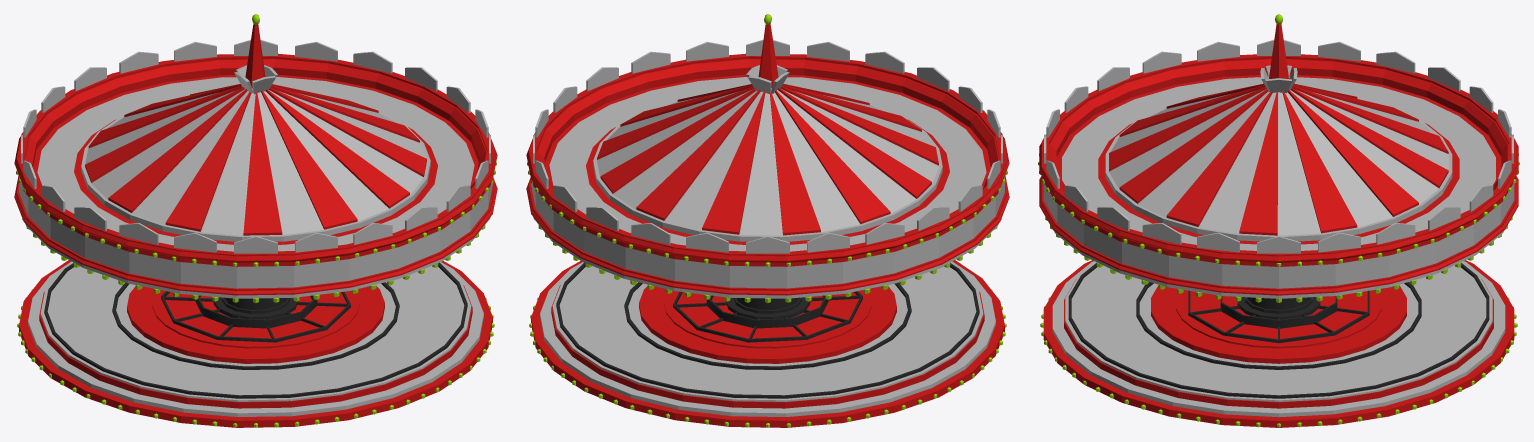
File: SM_carousel_base.fbx
3 renders of one model, left to right at view 1: azimuth 30°, elevation 25°; view 2: azimuth 150°, elevation 25°; view 3: azimuth 270°, elevation 25°, orthographic.
Parts seen in each view (by area): view 1: Cylinder092; view 2: Cylinder092; view 3: Cylinder092.
Boxes of the visible parts, bbox=[...] form: Cylinder092: bbox=[14, 14, 497, 427]; Cylinder092: bbox=[526, 14, 1009, 427]; Cylinder092: bbox=[1038, 14, 1519, 427].
Bounding box in the file's own units: 586 × 420 × 584.
